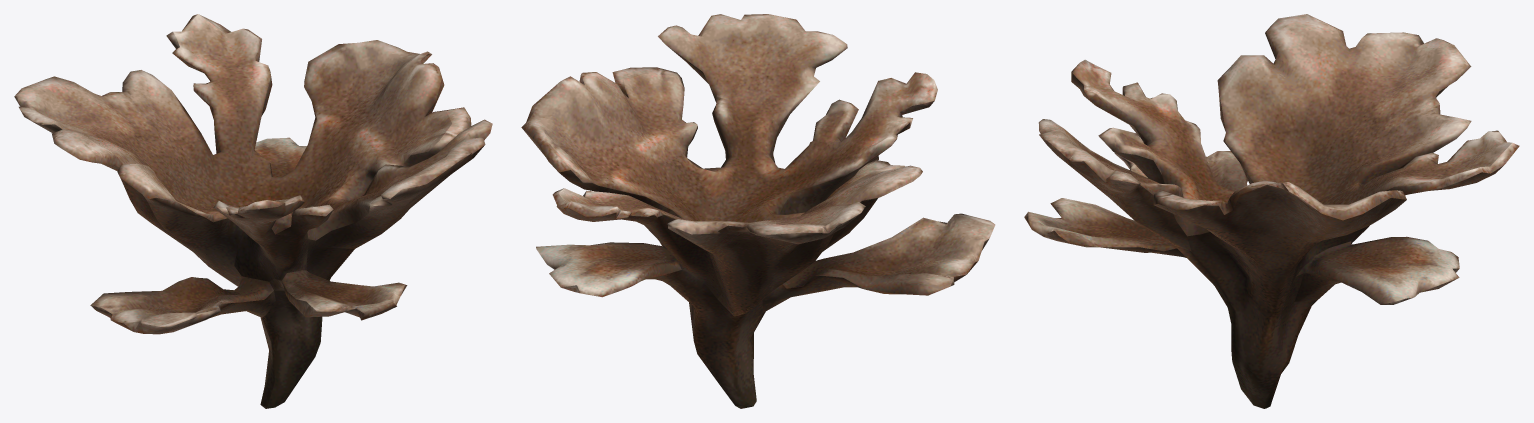
Rendered from Coral V8.fbx.
3 views of the same model, side by side, from view 1: azimuth 30°, elevation 25°; view 2: azimuth 150°, elevation 25°; view 3: azimuth 270°, elevation 25° (orthographic). The views are drawn at different scales.
Parts seen in each view (by area): view 1: Coral V8; view 2: Coral V8; view 3: Coral V8.
Boxes of the visible parts, x1=… form: Coral V8: x1=14, y1=14, x2=492, y2=408; Coral V8: x1=521, y1=14, x2=995, y2=408; Coral V8: x1=1024, y1=14, x2=1519, y2=408.
Bounding box in the file's own units: 55.46 × 42.35 × 62.12.
